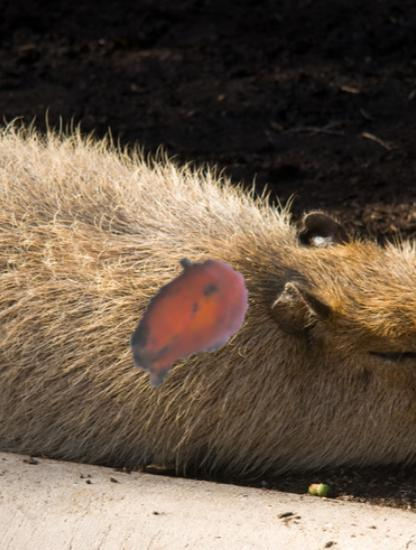Banana: (111, 241, 257, 387)
